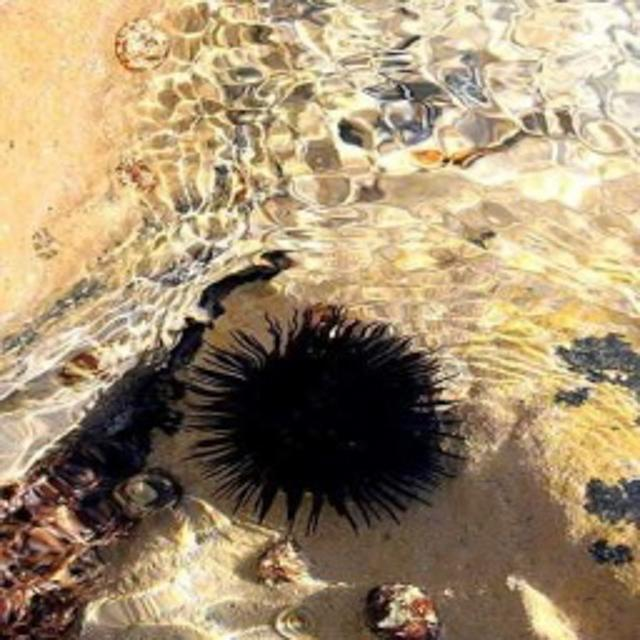Urchin: (181, 303, 470, 538)
